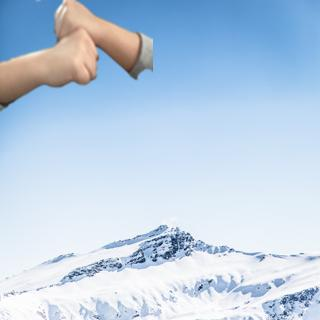CAREFUL: (4, 1, 145, 88)
